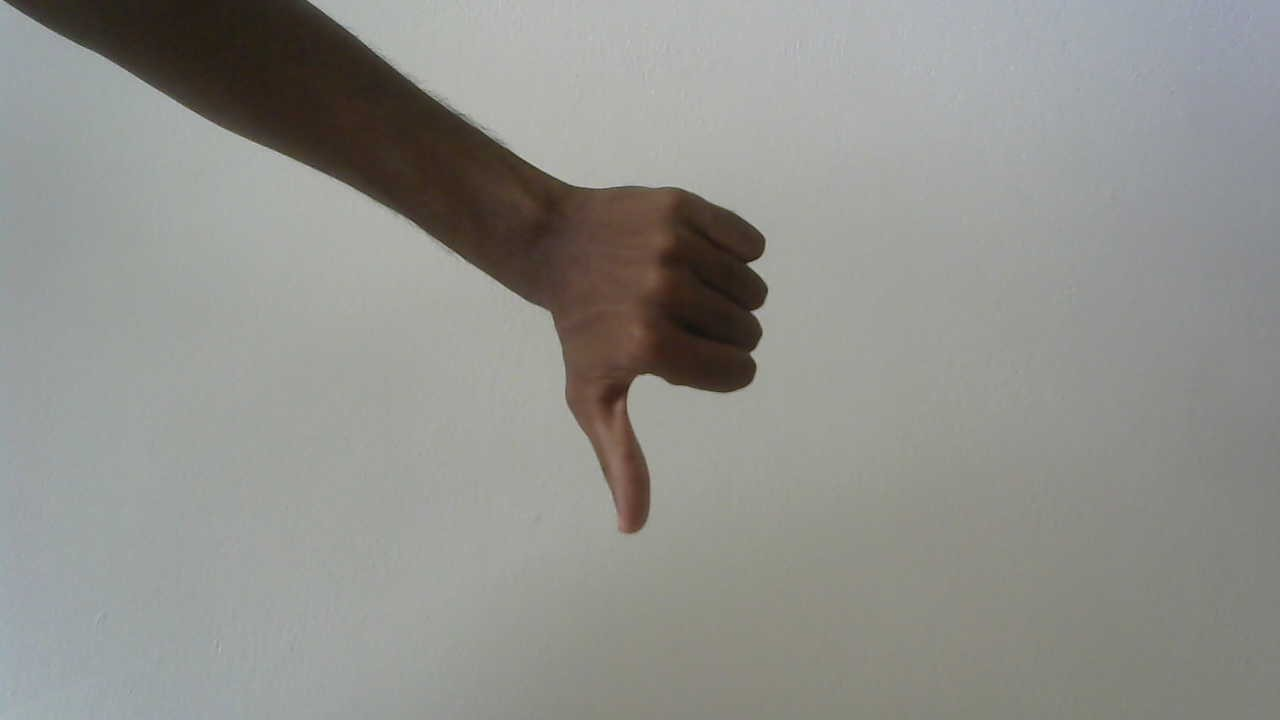thumbsdown: (530, 146, 789, 547)
